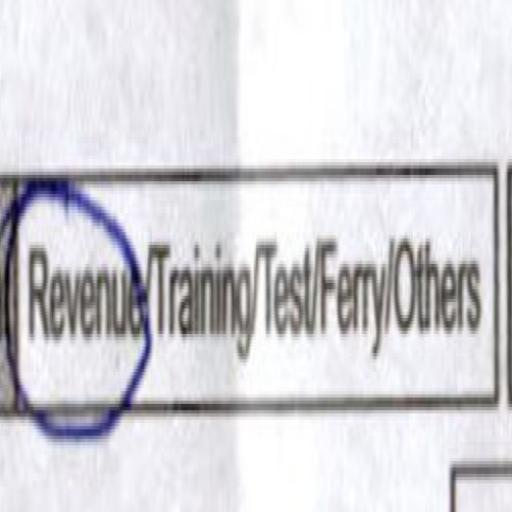check: (19, 138, 139, 462)
